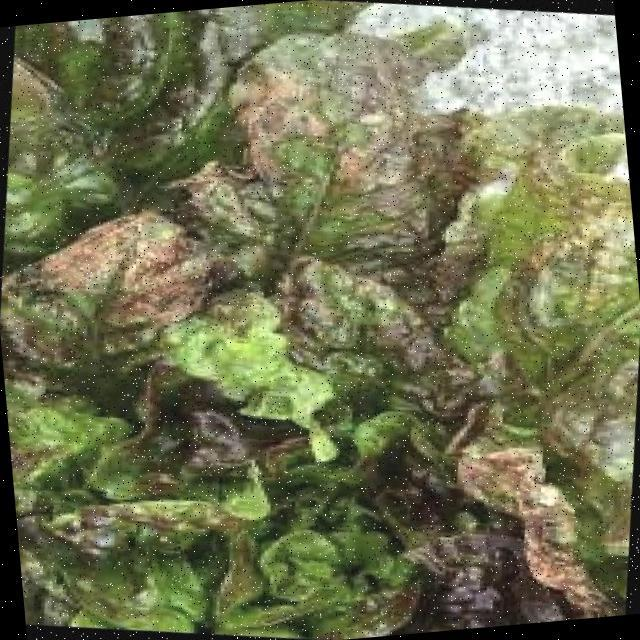Lettuce Mosaic Virus: (0, 16, 439, 415)
